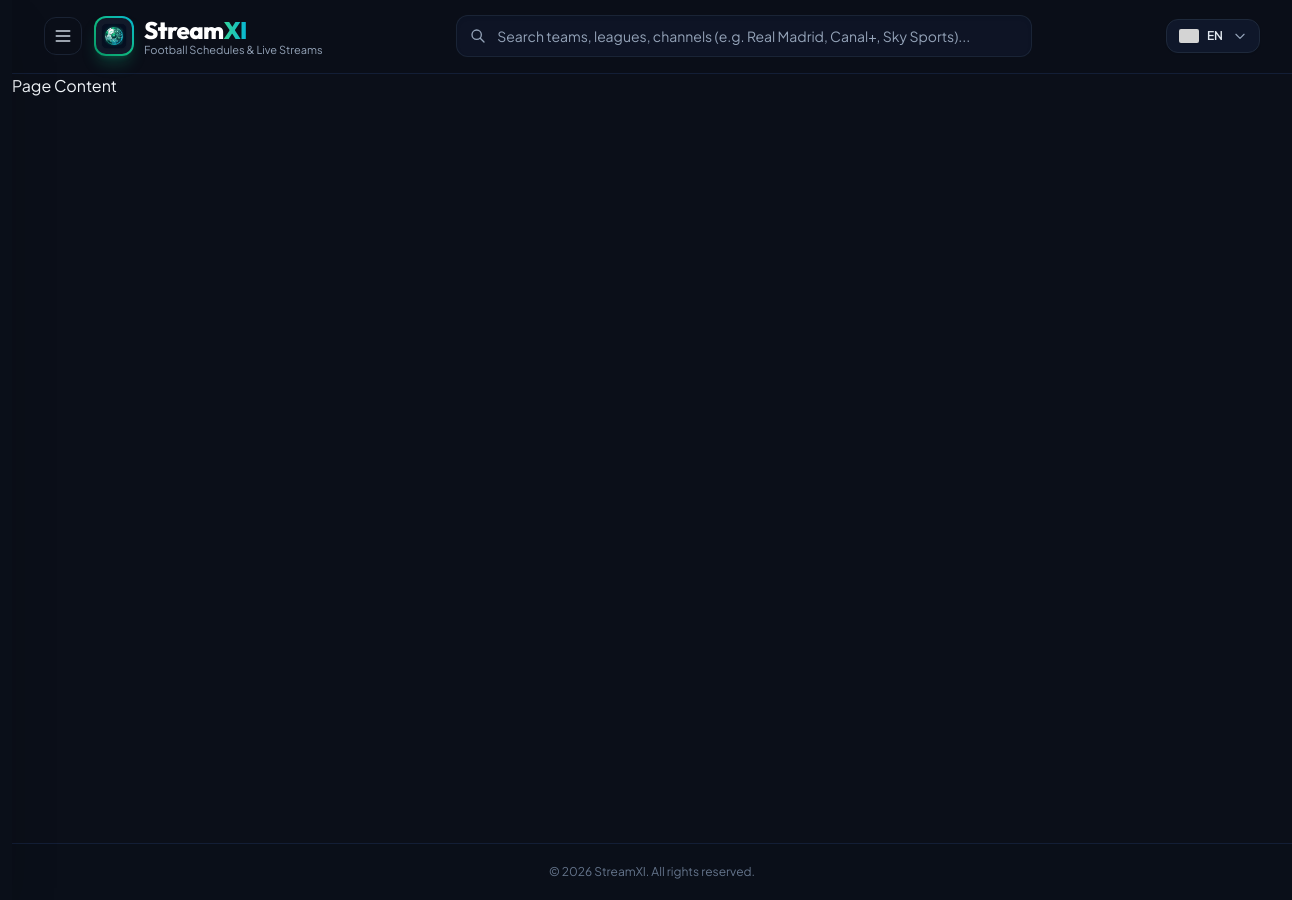
Test case: Frontend Step 2: Global Layout & Navigation Tests › allows language menu to toggle languages with flags
What coordinates should you click on to do the following:
click the button with aria-label "Language selector"
I would click on:
 (1213, 36)
Its box is [1166,19,1260,53].
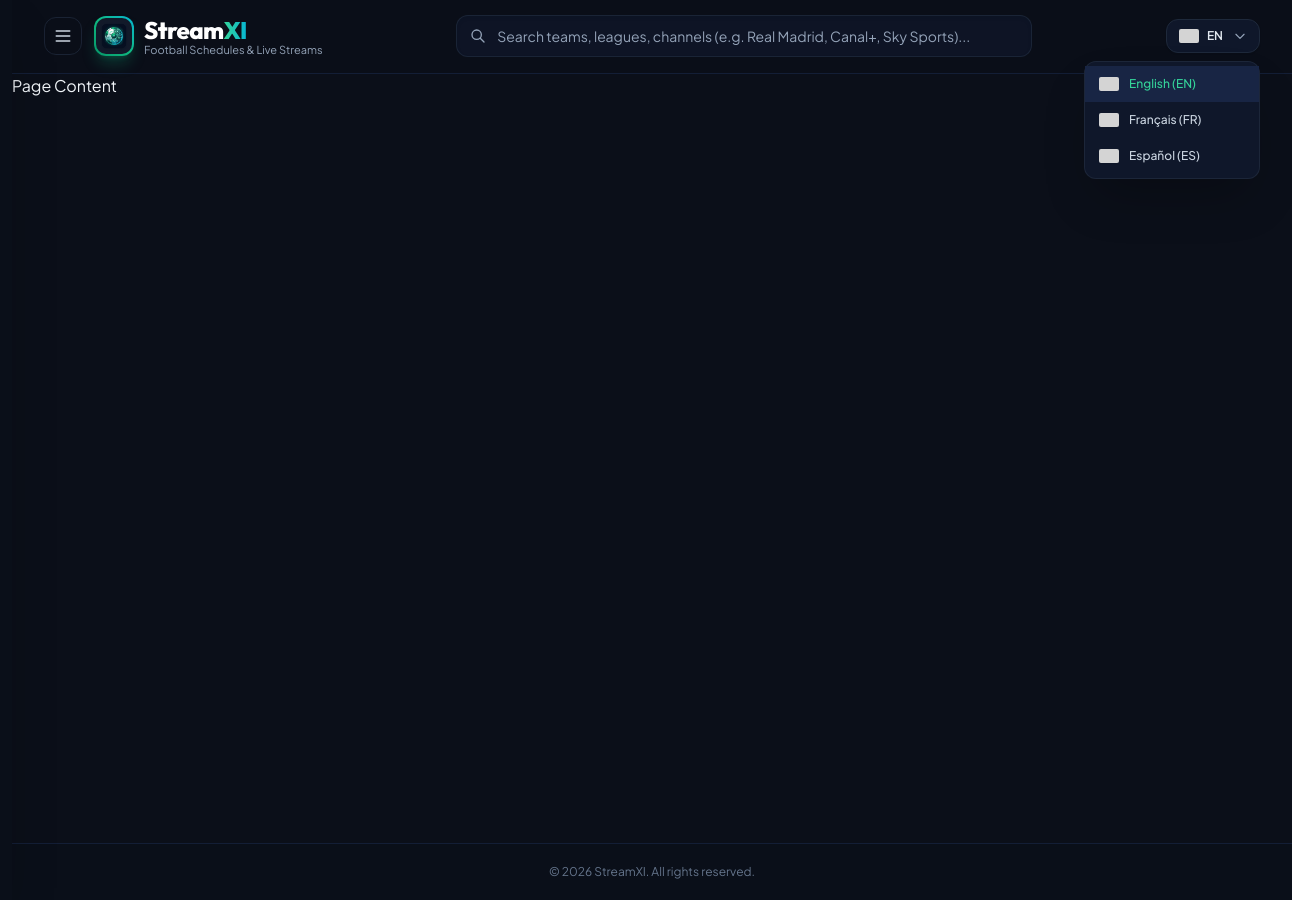
Now the text "English (EN)" is shown, box [1129,76,1196,92]
Now the text "Français (FR)" is shown, box [1129,112,1201,128]
Now the text "Español (ES)" is shown, box [1129,148,1200,164]
# Switch to French
What coordinates should you click on to do the following:
click the button "Français (FR)"
I would click on:
 (1172, 120)
Its box is [1085,102,1259,138].
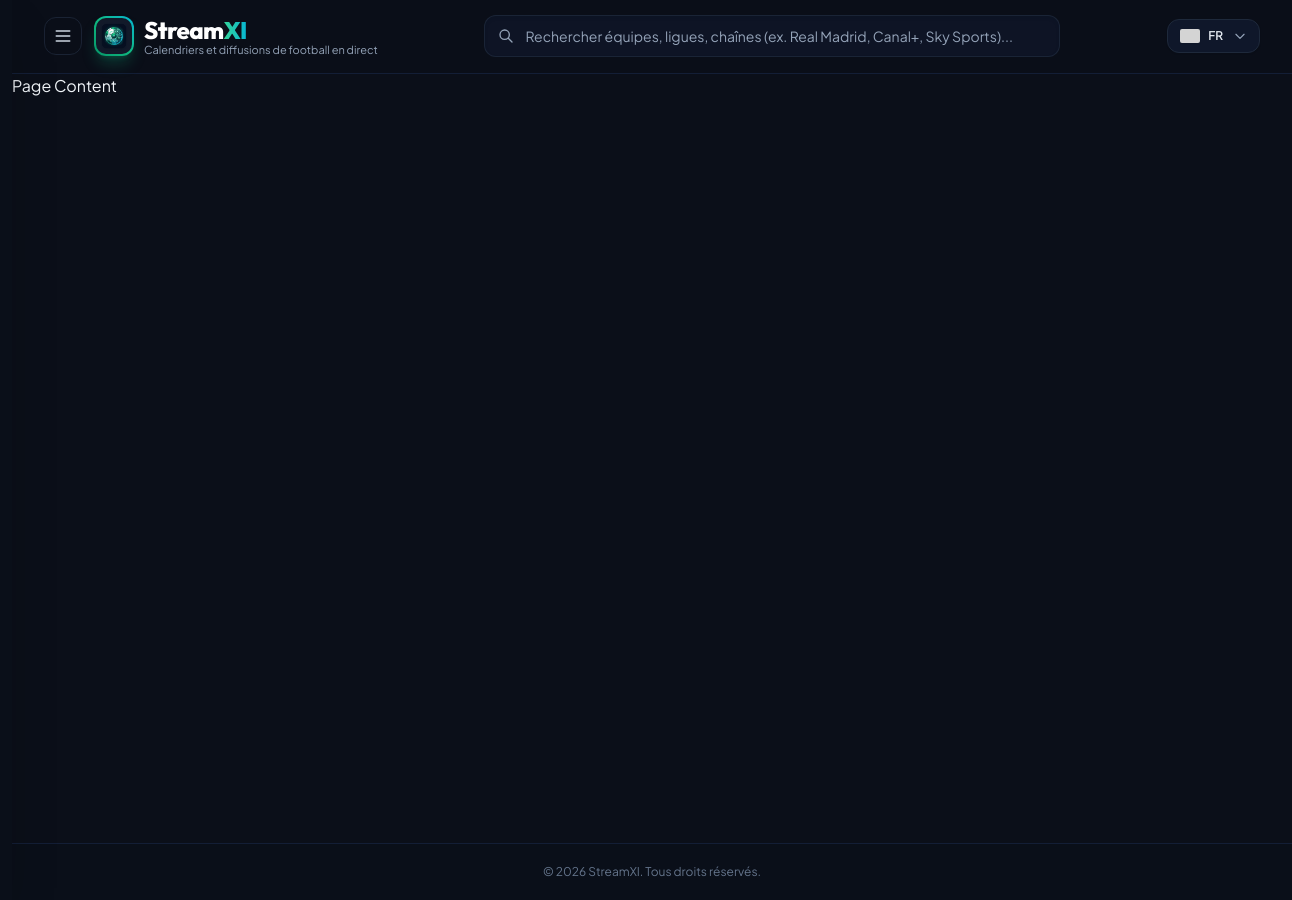
Now the text "FR" is shown, box [1208,28,1223,44]
